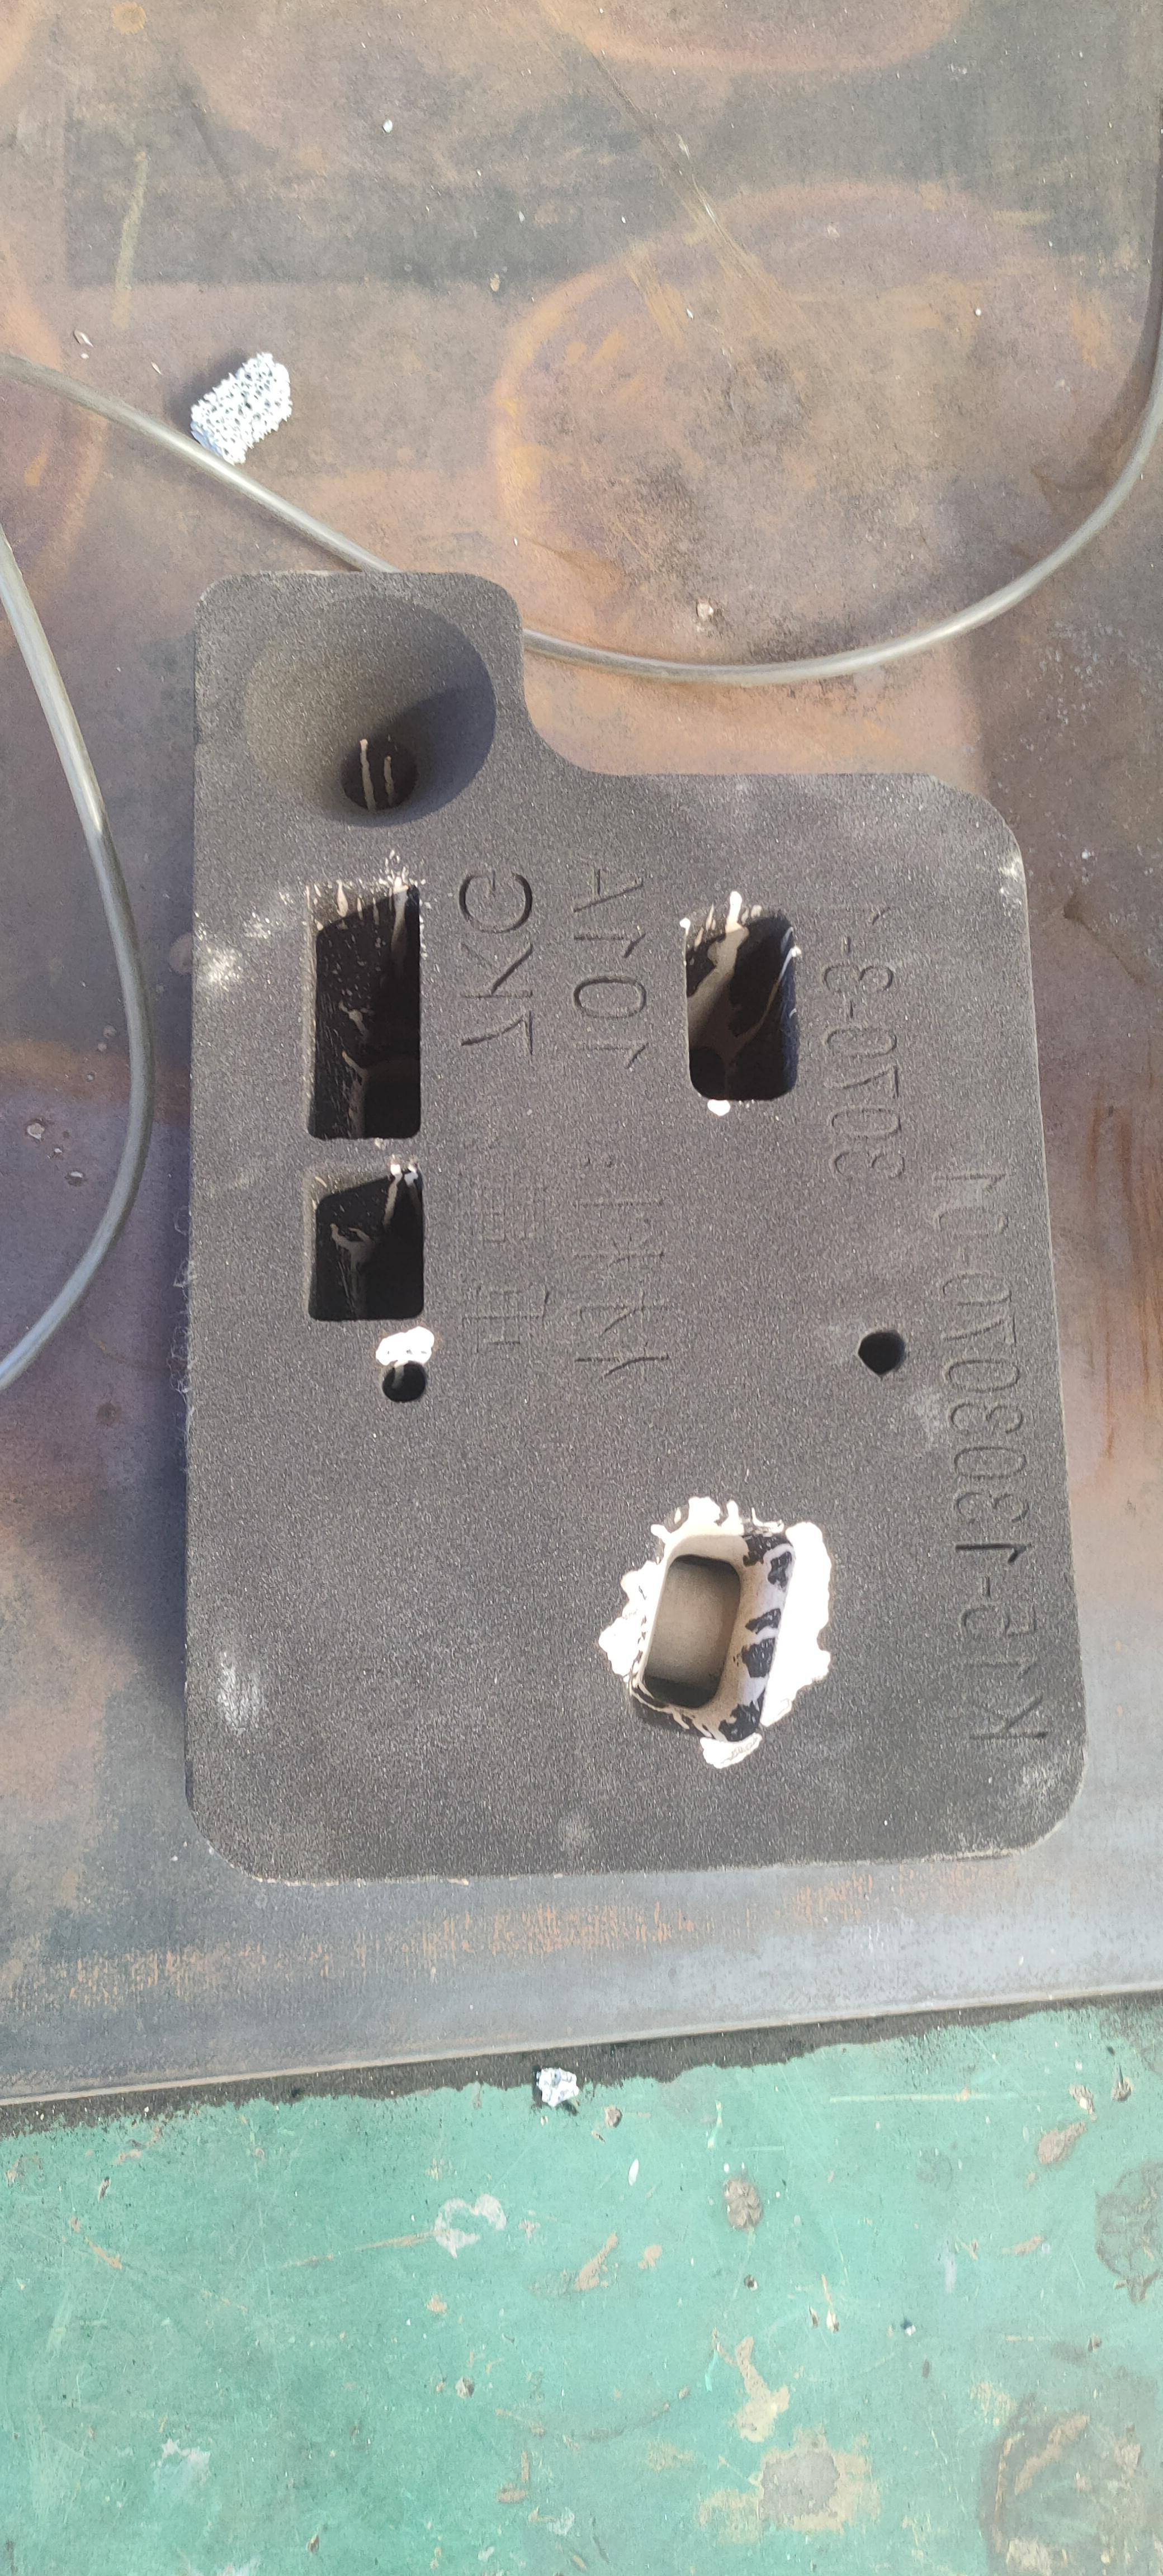pouring hole: (240, 595, 496, 830)
